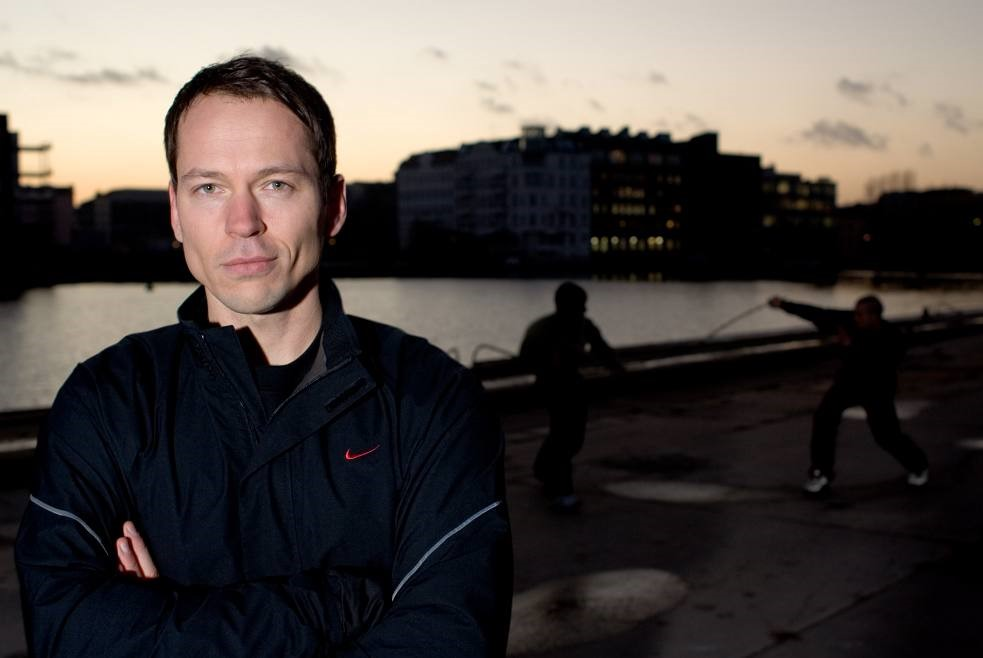baston_e: (708, 300, 767, 342)
